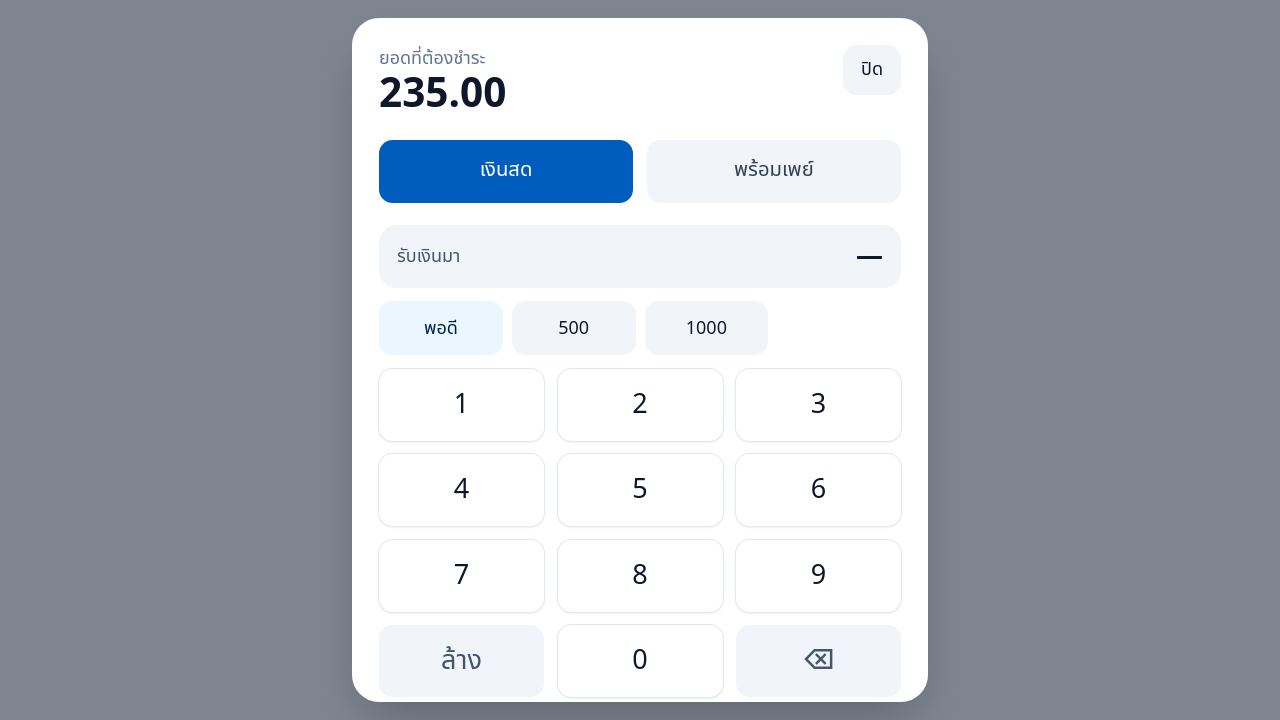
Test: cash › keeps confirm disabled while the cash does not cover the bill
Click the button "2" at (640, 405), box [558,369,722,441]
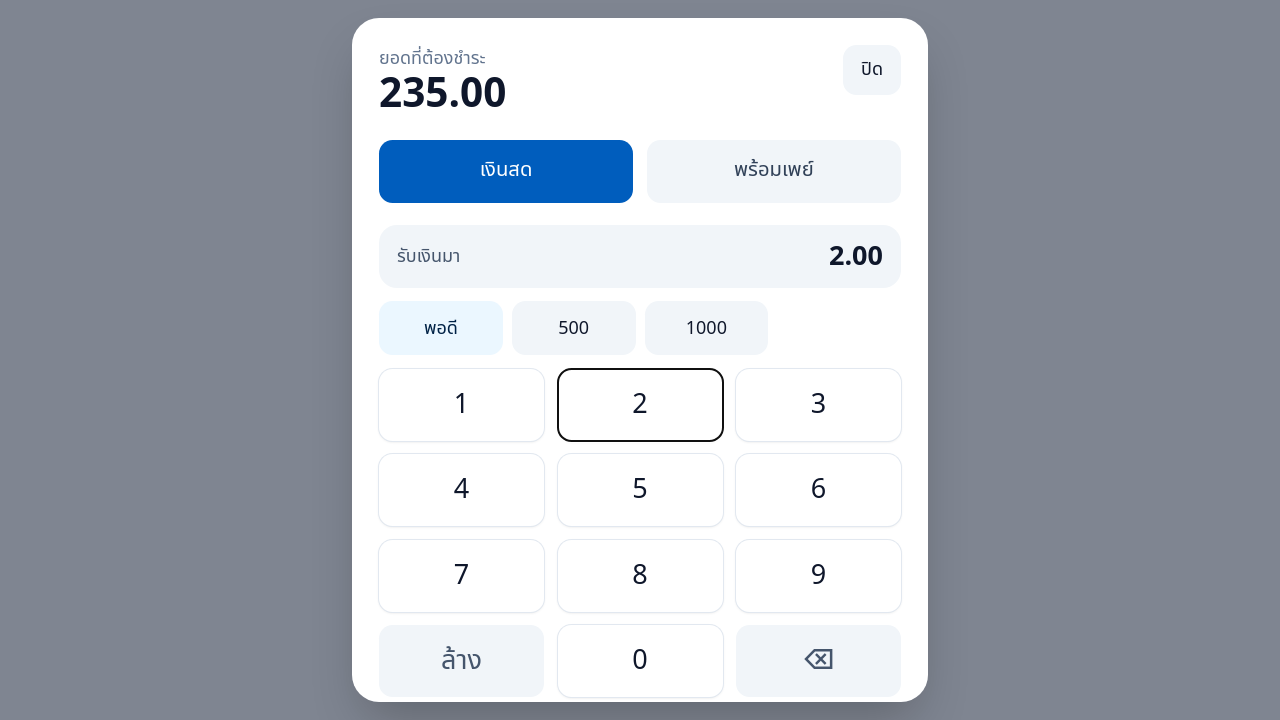
Click the button "0" at (640, 662), box [558,626,722,698]
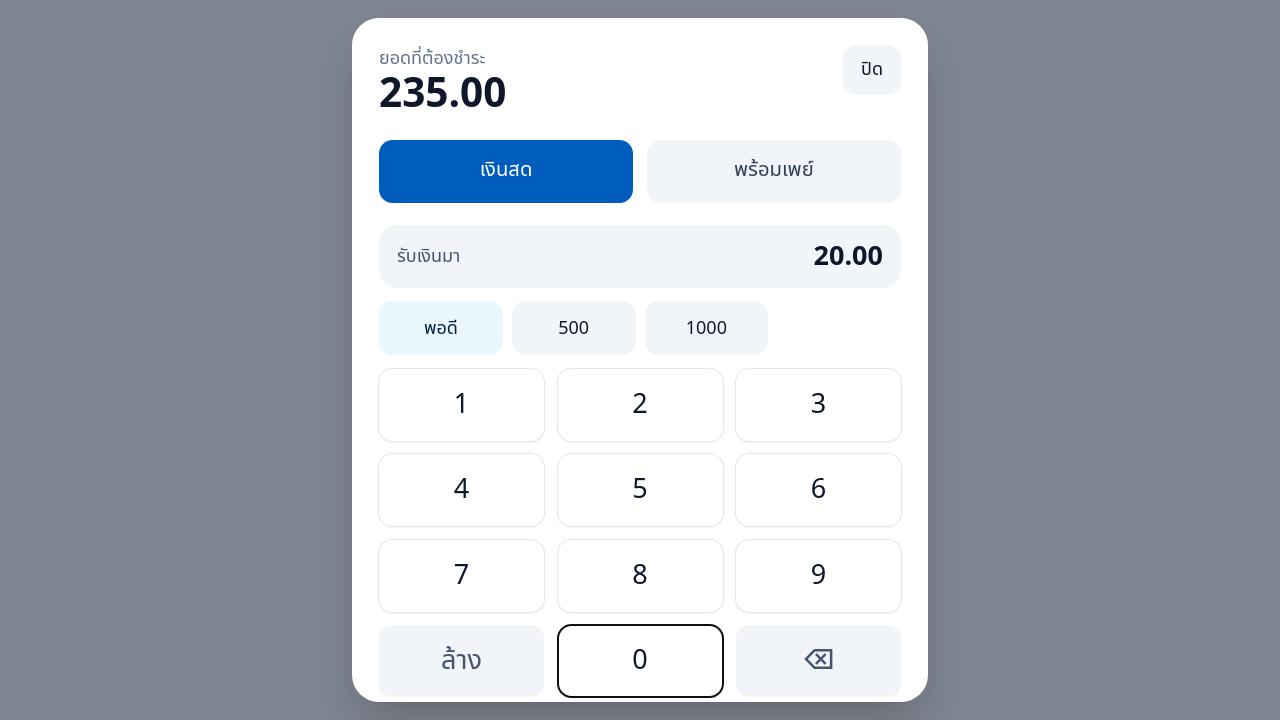
Click the button "0" at (640, 662), box [558,626,722,698]
(page scrolled)
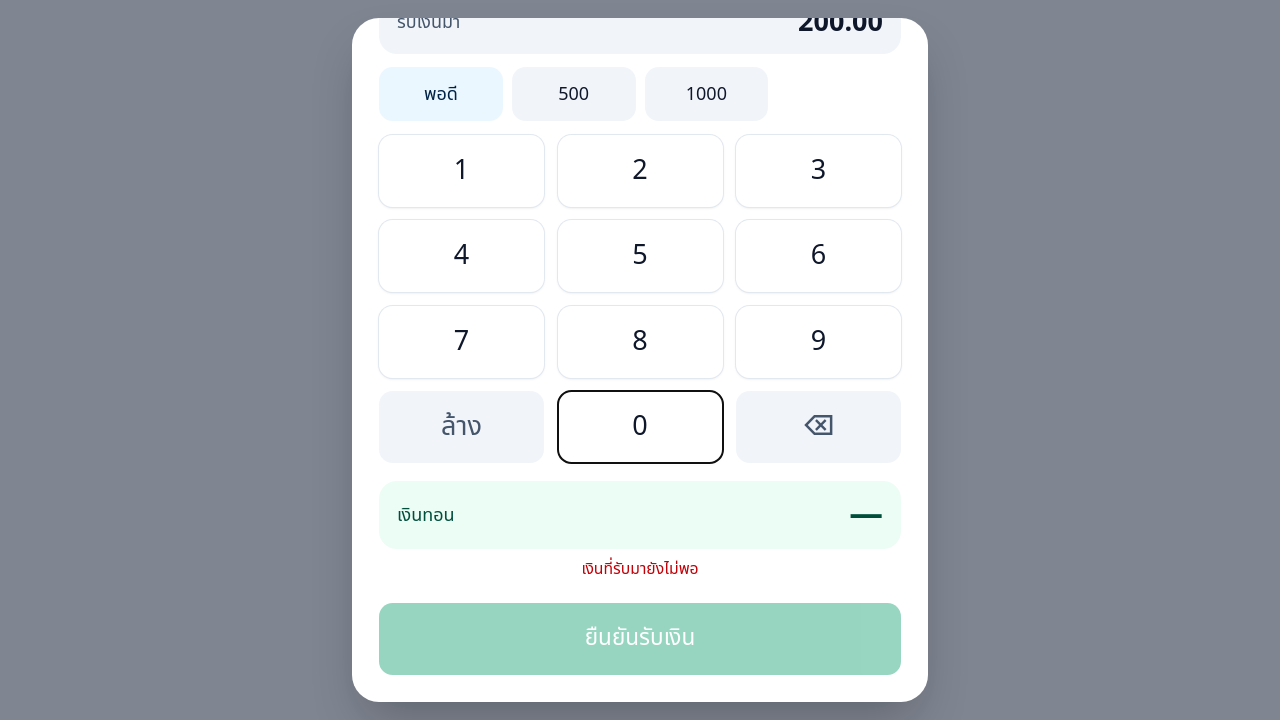
Check: the button "ยืนยันรับเงิน" is disabled, box [379,603,901,675]
Check: the text "เงินที่รับมายังไม่พอ" is shown, box [581,557,699,581]
